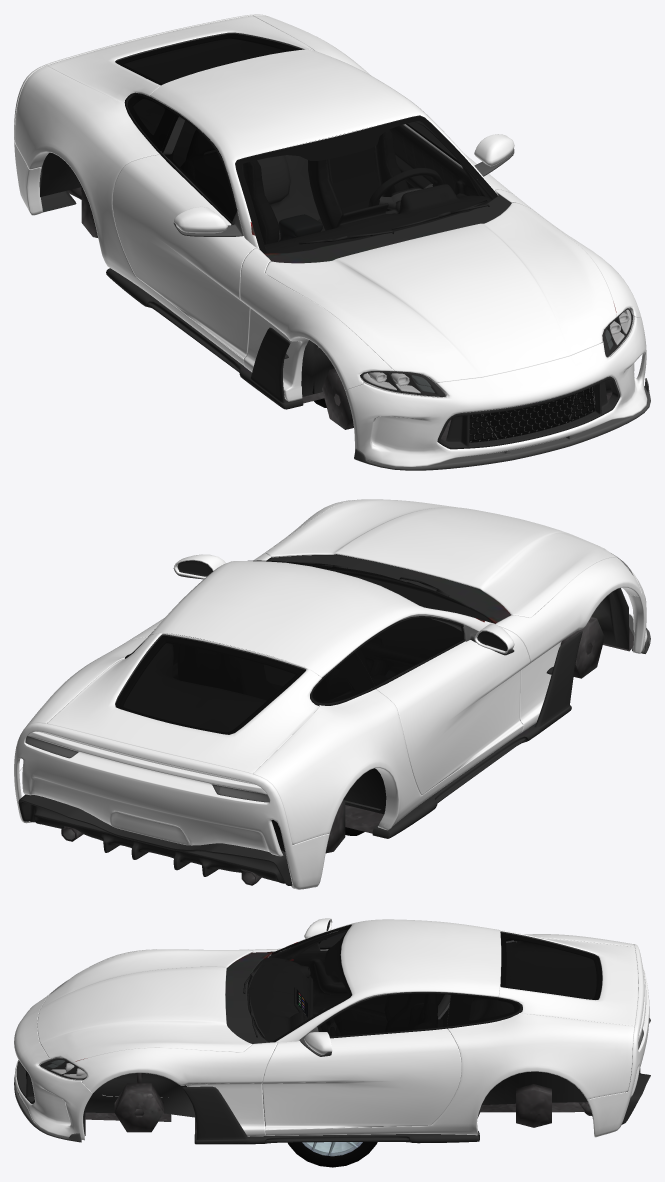
Rendered from coupe.glb.
3 renders of one model, top to bottom at view 1: azimuth 30°, elevation 25°; view 2: azimuth 150°, elevation 25°; view 3: azimuth 270°, elevation 25°, orthographic. The views are drawn at different scales.
Visible parts, largest first — view 1: lod0; view 2: lod0; view 3: lod0, wheel_lod0.
Boxes of the visible parts, x1,y1,x2,y2 form: lod0: (14,14,650,470); lod0: (14,499,650,889); lod0: (14,918,650,1144); wheel_lod0: (288,1142,377,1167).
Size of what is drawn, in the model's own units: 2.27 by 1.73 by 4.73.
19 materials, 7 textured.
